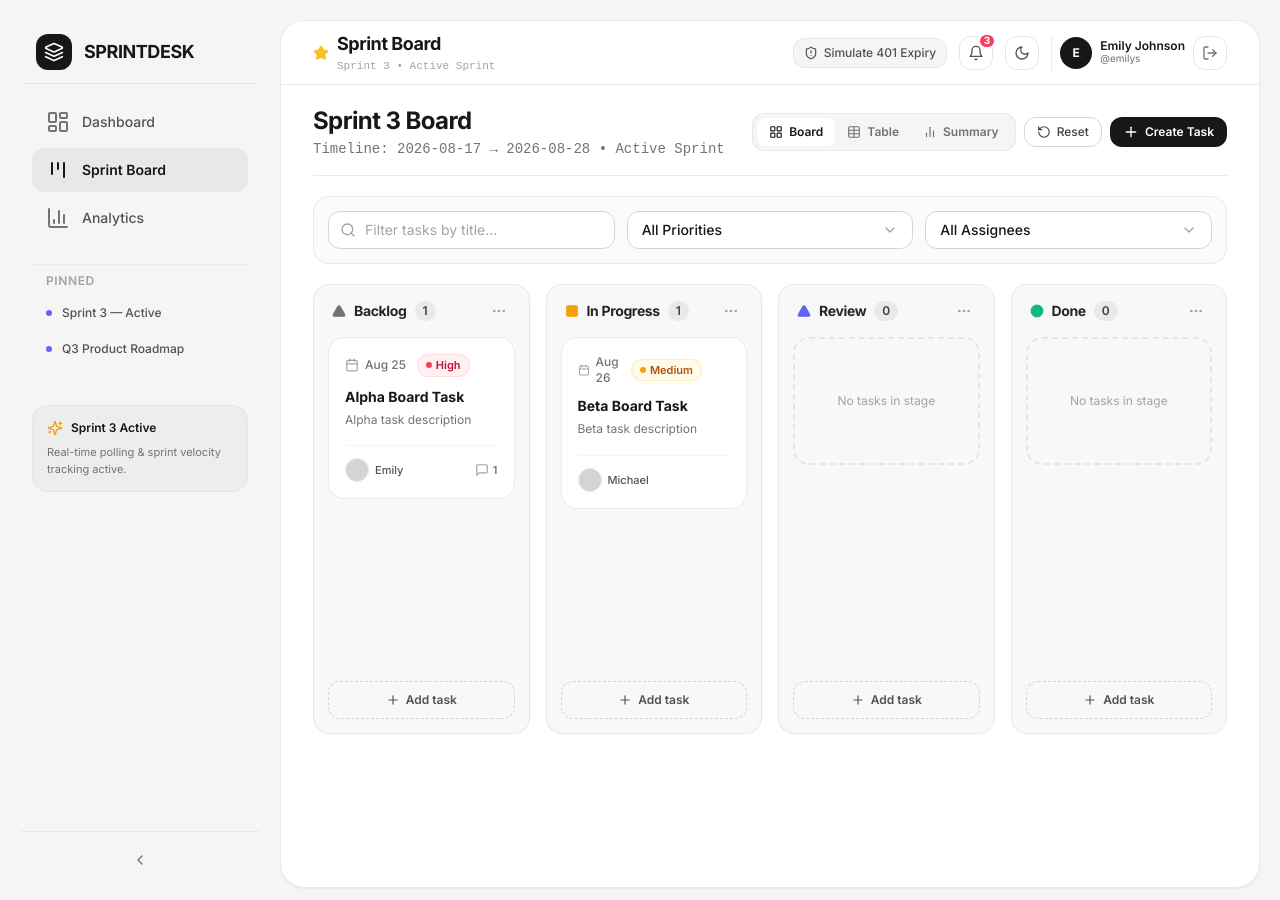
Board UI & Task Details Integration Test Suite › opens task drawer when task card title is clicked
The width and height of the screenshot is (1280, 900).
Click the heading "Alpha Board Task": point(405, 396) [345,388,464,404]
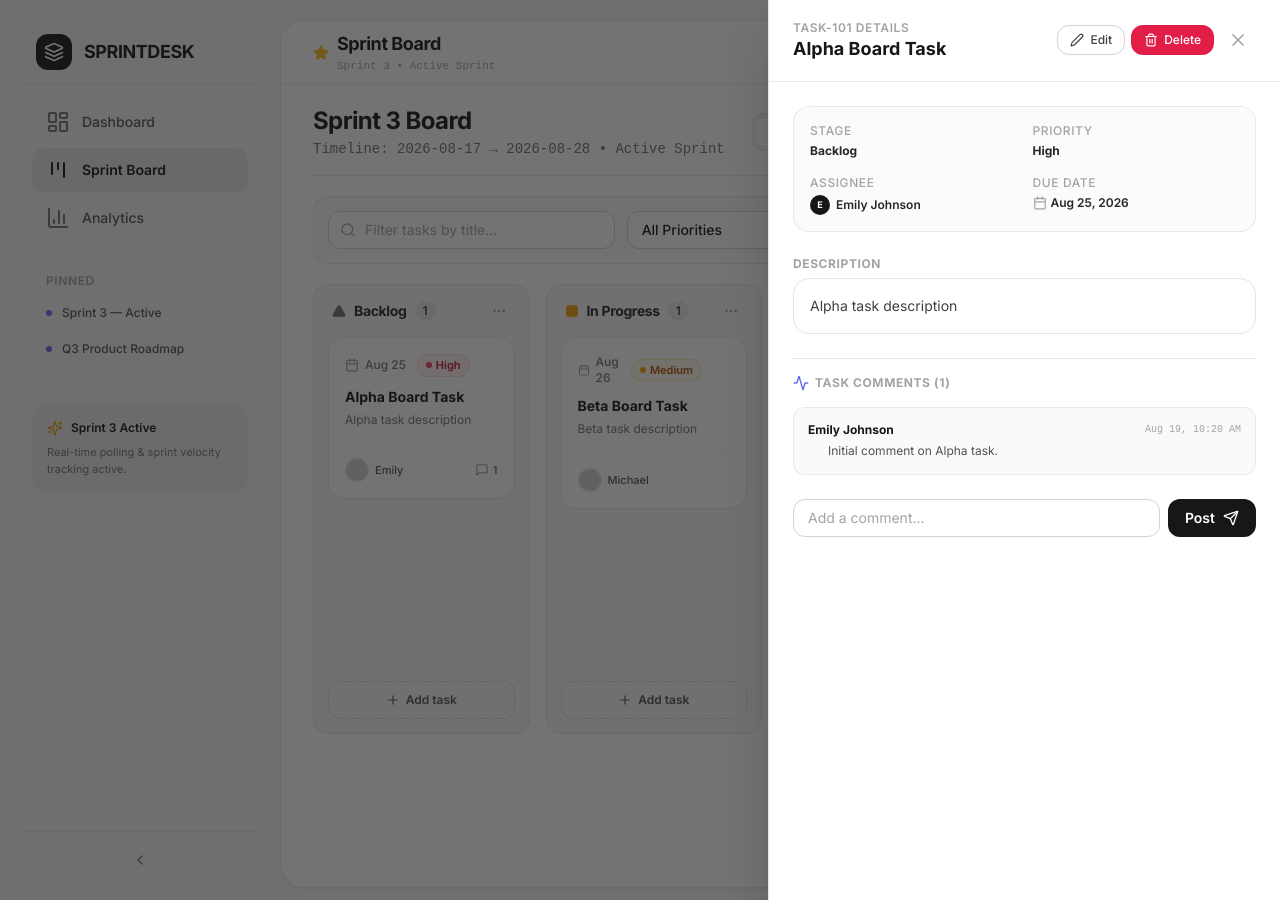
Expected: the dialog is shown
Expected: the text "Initial comment on Alpha task." is shown, [828,443,998,458]
